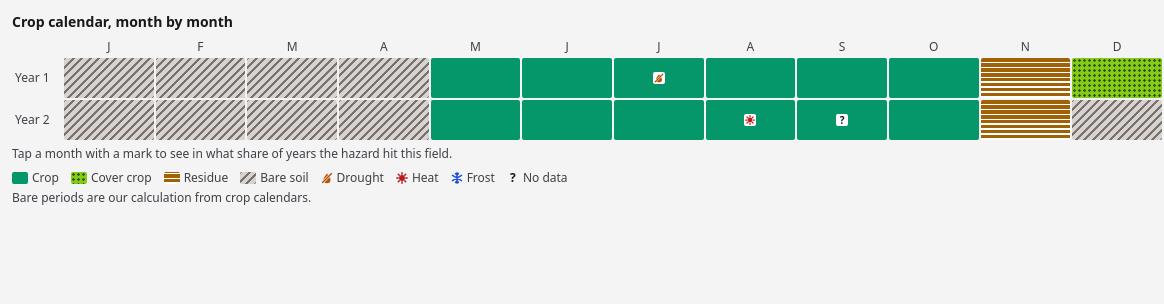
Scenario: CalendarStrip › never claims a year count, even when a range basis names a period
The width and height of the screenshot is (1164, 304).
Click the button named "July, Maize, drought risk".
click(659, 78)  # box [614,58,704,98]
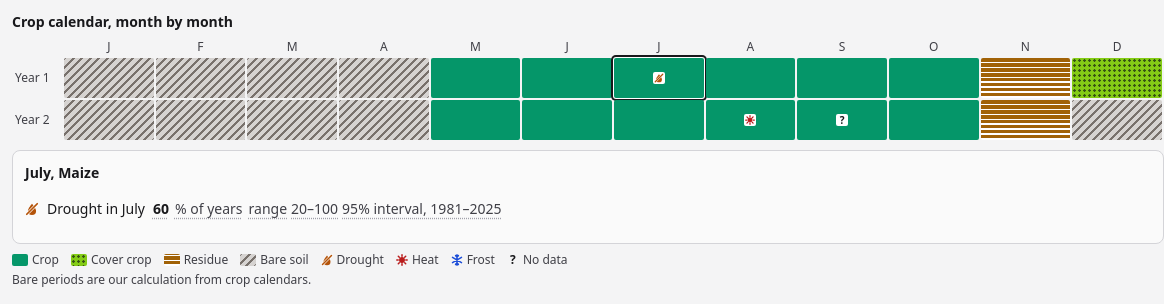
Result: the text "% of years" is shown at [175,199,243,219]
